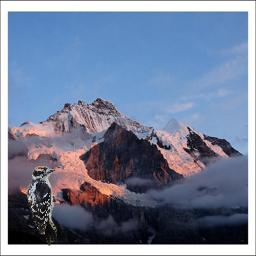Woodpecker: (26, 166, 57, 246)
